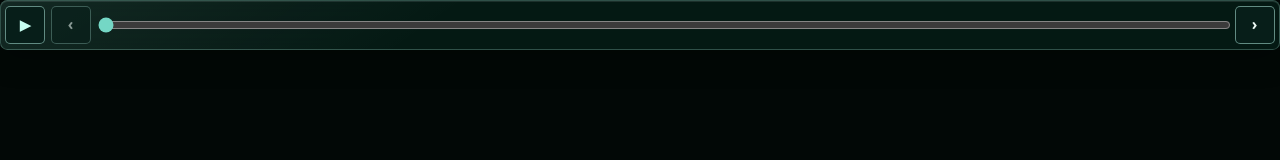
Test: pressing play again while playing pauses it
The width and height of the screenshot is (1280, 160).
Click the button named "Play replay": (26, 25) [6,6,46,44]
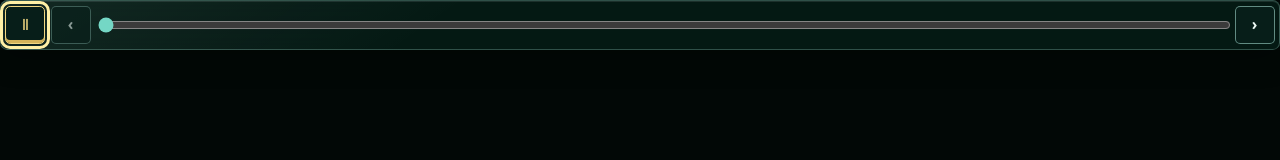
Result: the button named "Pause replay" is shown
Click the button named "Pause replay": (26, 25) [6,6,46,44]
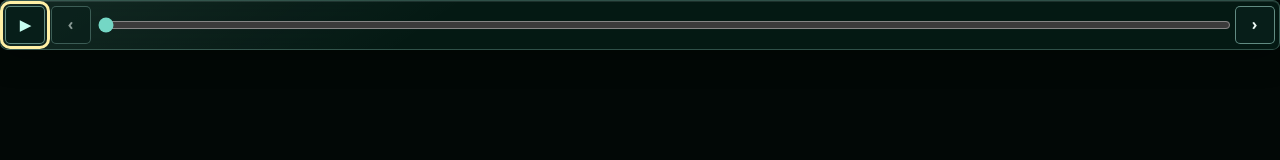
Result: the button named "Play replay" is shown at [6,6,46,44]
